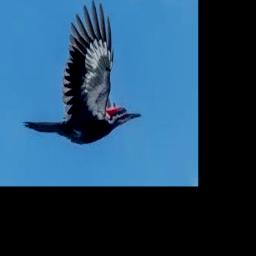Woodpecker: (23, 0, 142, 144)
